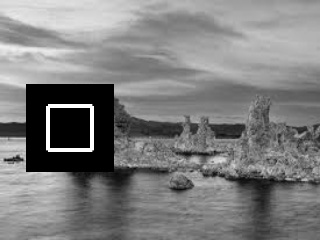square: (26, 84, 114, 172)
